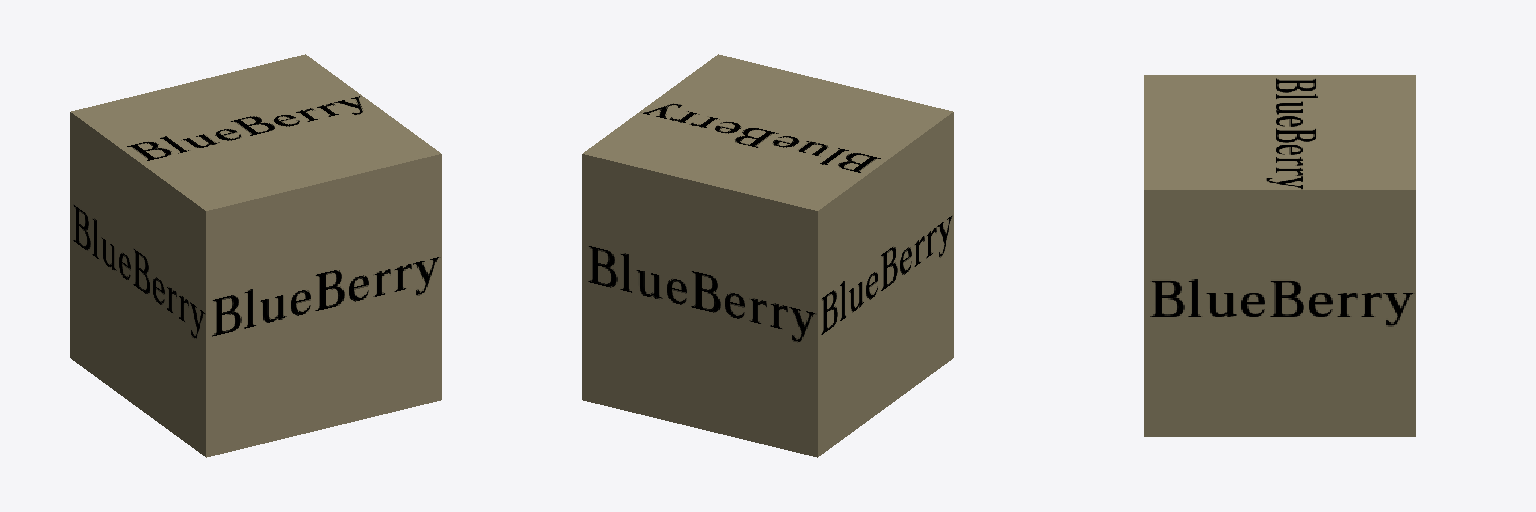
The picture shows the model from 3 angles: view 1: azimuth 30°, elevation 25°; view 2: azimuth 150°, elevation 25°; view 3: azimuth 270°, elevation 25°; orthographic projection.
Visible parts, largest first — view 1: Cube; view 2: Cube; view 3: Cube.
Boxes of the visible parts, box(x1,y1,x2,y2) form: Cube: box(70, 54, 441, 457); Cube: box(582, 54, 953, 457); Cube: box(1144, 75, 1415, 436).
Bounding box in the file's own units: 0.6 × 0.6 × 0.6.
Materials: 1 (1 with a texture image).